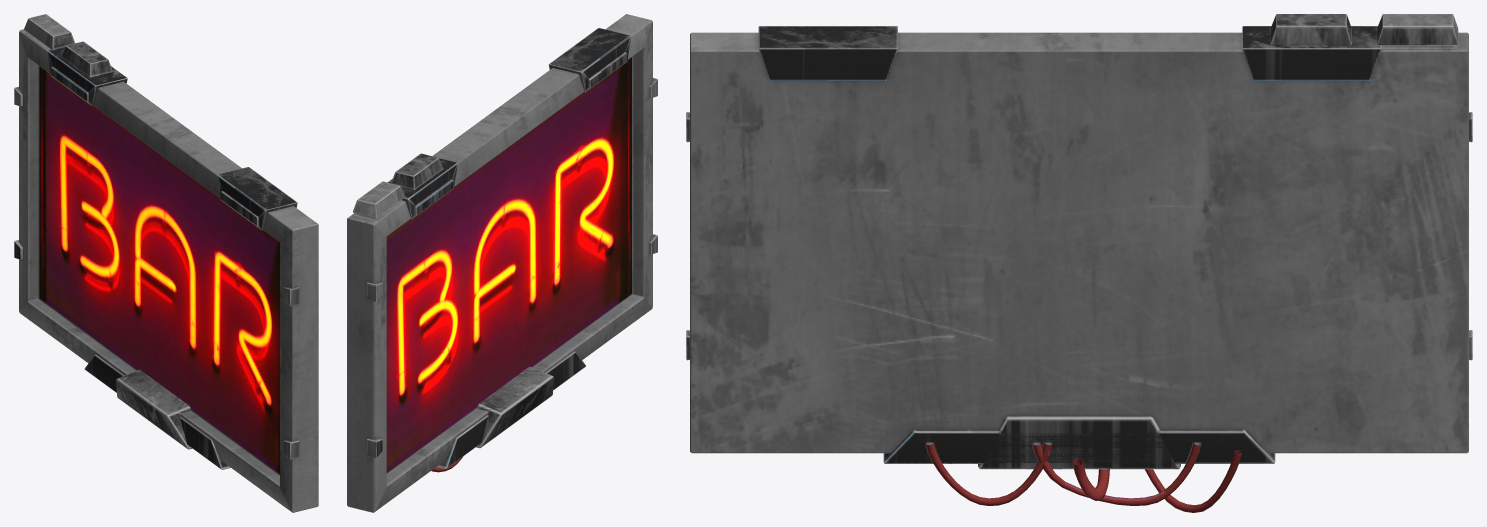
File: SM_Screen03.fbx
3 views of the same model, side by side, from view 1: azimuth 30°, elevation 25°; view 2: azimuth 150°, elevation 25°; view 3: azimuth 270°, elevation 25° (orthographic). The views are drawn at different scales.
Visible parts, largest first — view 1: SM_Screen03_LOD0; view 2: SM_Screen03_LOD0; view 3: SM_Screen03_LOD0.
Boxes of the visible parts, x1,y1,x2,y2 form: SM_Screen03_LOD0: [14, 14, 318, 512]; SM_Screen03_LOD0: [347, 14, 657, 512]; SM_Screen03_LOD0: [686, 14, 1472, 512].
Size of the model in its own units: 33.19 by 248 by 167.
